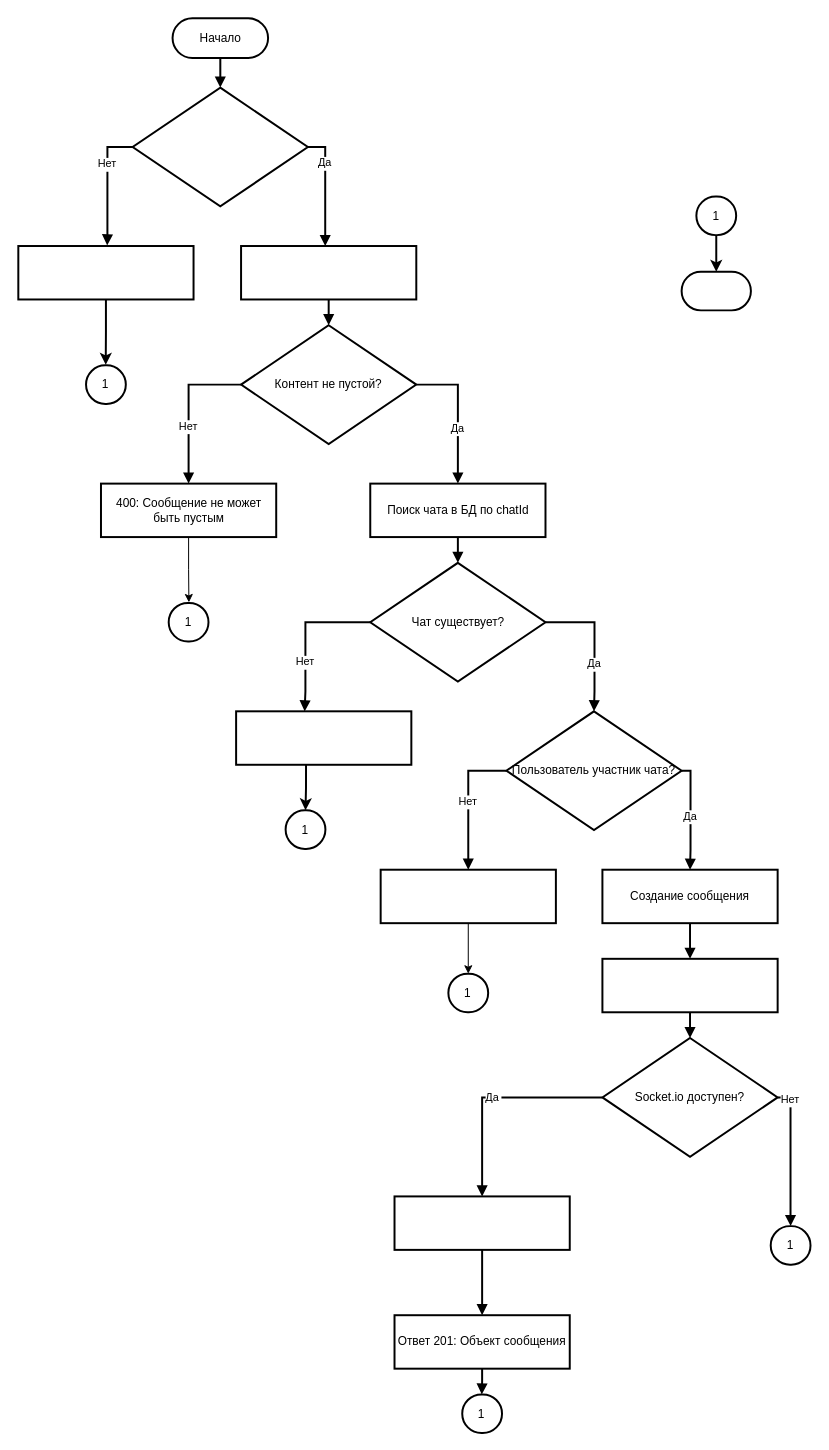
This 829x1450 diagram has some shape labels left out. Each missing label, with the centre of its shape:
401: Неавторизовано: (x=105, y=272)
Авторизация успешна?: (x=219, y=146)
Конец: (x=715, y=290)
Отправка Socket.io событий: (x=481, y=1222)
Ошибка 403: Нет доступа к чату: (x=467, y=896)
Ошибка 404: Чат не найден: (x=323, y=737)
Получение chatId, content: (x=328, y=272)
Создание уведомления: (x=689, y=985)
